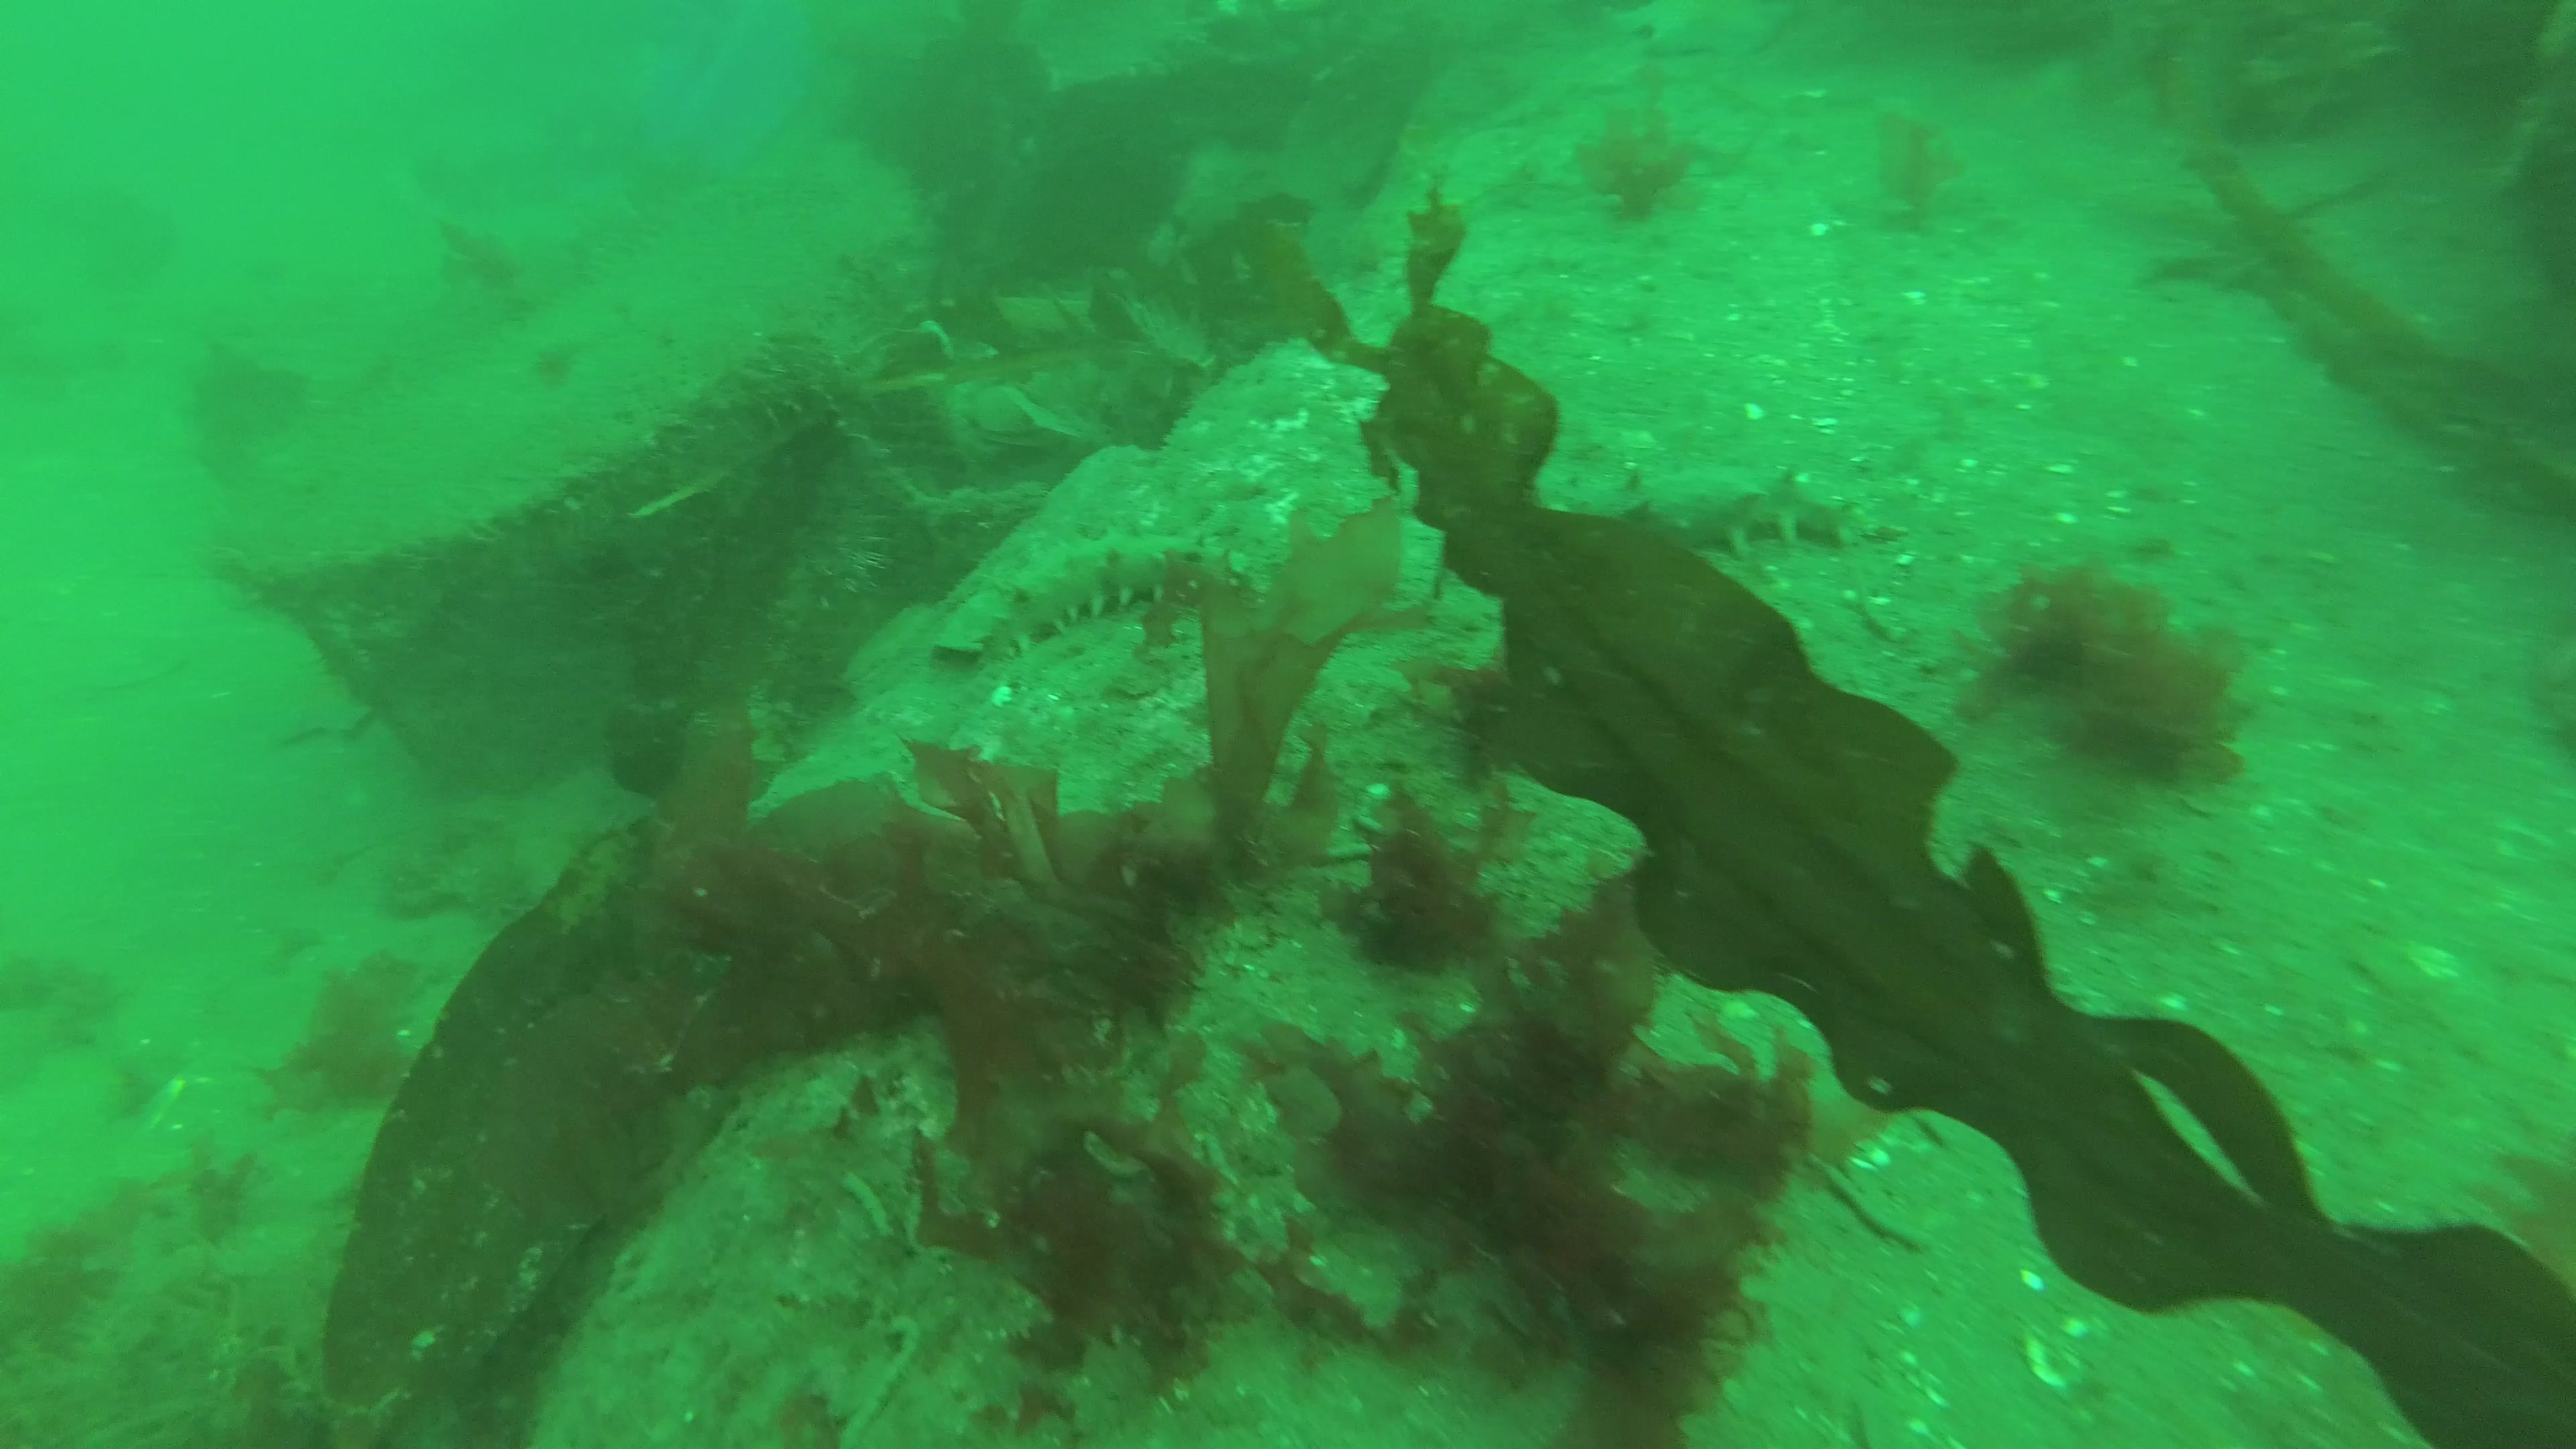holothurian: (929, 520, 1258, 665), (1491, 465, 1913, 564)
